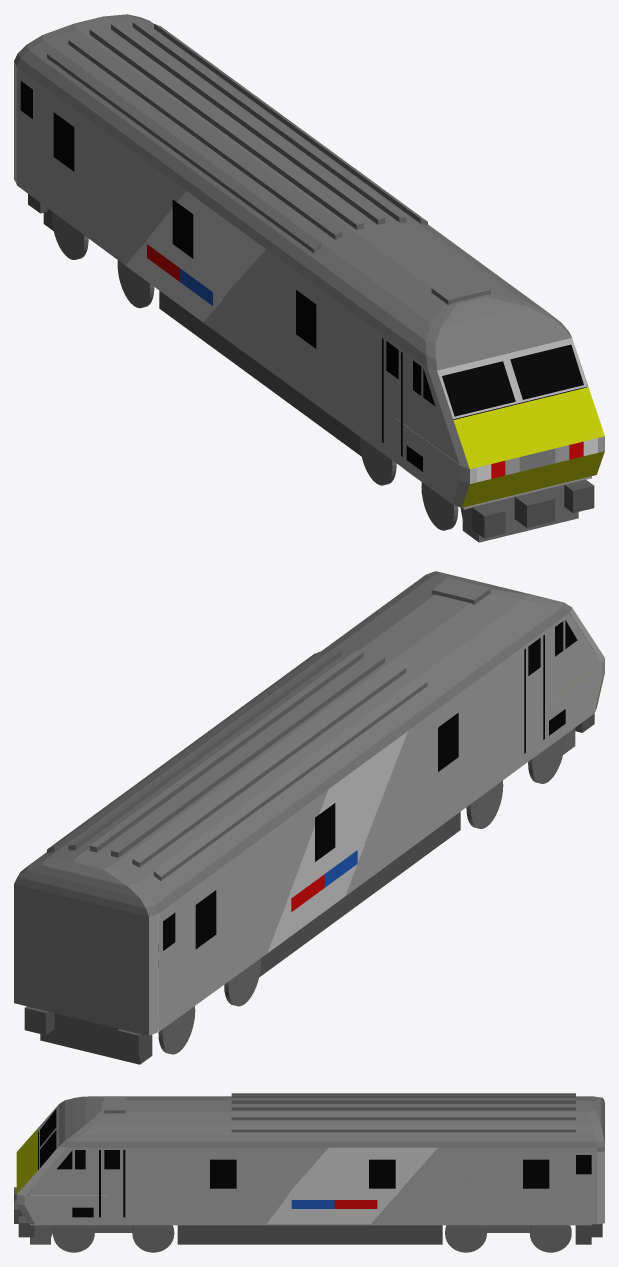
The model's file is br-mk4-dvt-nxec.dae.
The picture shows the model from 3 angles, top to bottom: view 1: azimuth 30°, elevation 25°; view 2: azimuth 150°, elevation 25°; view 3: azimuth 270°, elevation 25°; orthographic projection. The views are drawn at different scales.
Parts seen in each view (by area): view 1: Plane_019, Plane_064, Plane_001, Plane_027, Plane_014, Plane_052, Cube_007, Cube_003, Cube_033, Plane_068, Cube_009, Cube_004 (+24 smaller); view 2: Plane_019, Plane_064, Plane_102, Plane_027, Plane_001, Cube_007, Cube_003, Cube_033, Plane_068, Cube_009, Cube_004, Plane_070 (+20 smaller); view 3: Plane_019, Plane_020, Plane_096, Plane_001, Cube_033, Plane_023, Plane_099, Plane_113, Cube_008, Cube_010, Plane_112, Plane (+33 smaller).
Boxes of the visible parts, <box> form: Plane_019: <box>14,14,466,306</box>; Plane_064: <box>16,67,374,394</box>; Plane_001: <box>344,237,571,370</box>; Plane_027: <box>16,148,402,467</box>; Plane_014: <box>453,387,604,468</box>; Plane_052: <box>442,344,585,419</box>; Cube_007: <box>47,48,321,253</box>; Cube_003: <box>68,36,342,239</box>; Cube_033: <box>159,291,361,456</box>; Plane_068: <box>16,133,459,464</box>; Cube_009: <box>111,22,385,224</box>; Cube_004: <box>89,28,363,229</box>; Plane_019: <box>14,633,486,916</box>; Plane_064: <box>158,673,516,979</box>; Plane_102: <box>14,884,148,1035</box>; Plane_027: <box>158,711,544,1031</box>; Plane_001: <box>346,571,571,672</box>; Cube_007: <box>153,675,427,880</box>; Cube_003: <box>132,663,406,867</box>; Cube_033: <box>259,812,460,977</box>; Plane_068: <box>158,658,601,987</box>; Cube_009: <box>89,650,363,852</box>; Cube_004: <box>111,655,384,857</box>; Plane_070: <box>158,725,520,994</box>; Plane_019: <box>173,1096,604,1147</box>; Plane_020: <box>136,1152,495,1190</box>; Plane_096: <box>99,1195,453,1224</box>; Plane_001: <box>59,1096,204,1147</box>; Cube_033: <box>177,1215,442,1244</box>; Plane_023: <box>433,1200,596,1224</box>; Plane_099: <box>463,1152,596,1190</box>; Plane_113: <box>25,1190,596,1195</box>; Cube_008: <box>231,1124,575,1132</box>; Cube_010: <box>231,1113,575,1120</box>; Plane_112: <box>129,1195,596,1200</box>; Plane: <box>29,1171,151,1190</box>.
Bounding box in the file's own units: 2.02 × 11.15 × 2.74.
